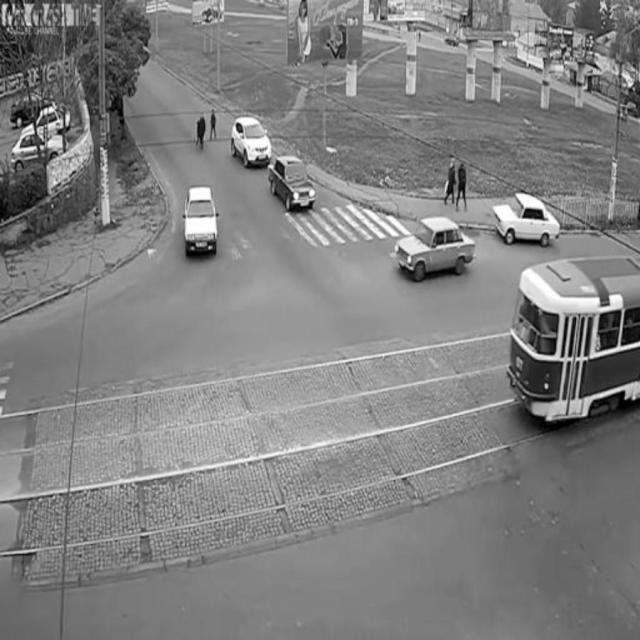person: (455, 157, 470, 211), (443, 152, 457, 208), (192, 108, 207, 158), (205, 101, 220, 146)
vehicle: (501, 259, 639, 423), (394, 221, 476, 275), (487, 192, 563, 246), (180, 182, 221, 263), (9, 125, 70, 175), (268, 154, 318, 212), (231, 117, 275, 168)
